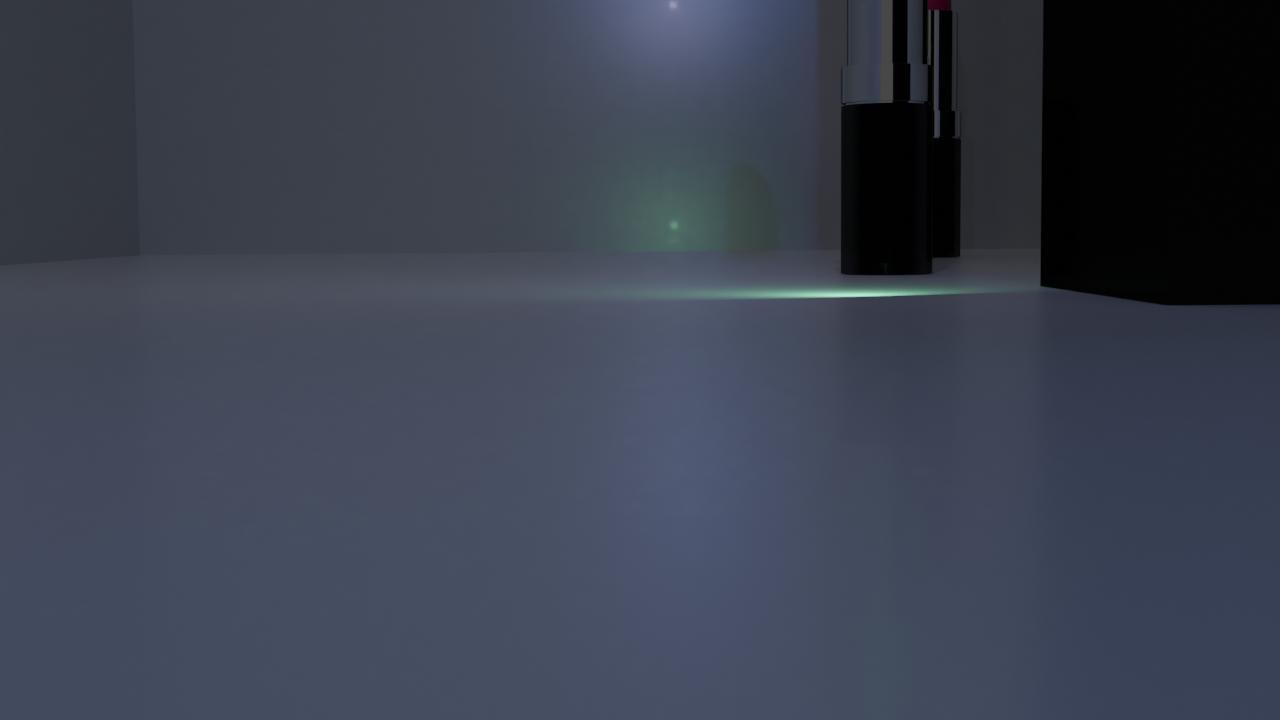CLASSIFIER_NAME: (839, 0, 936, 275)
